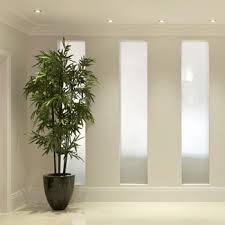bamboo: (29, 42, 94, 171)
